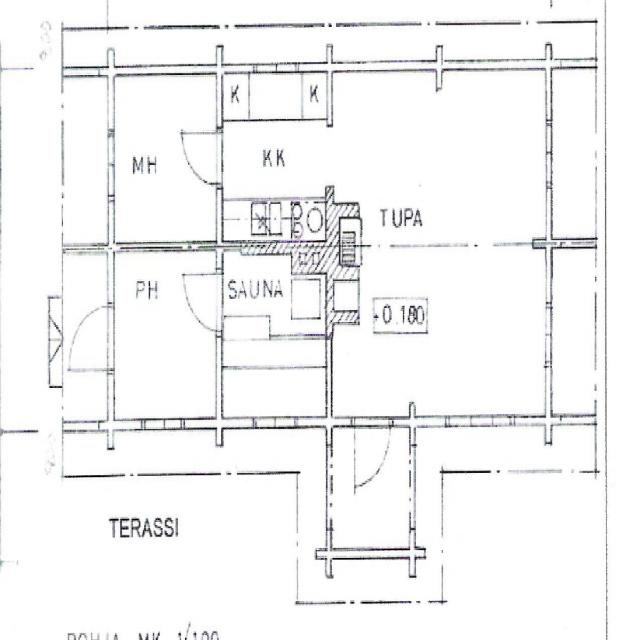door: (69, 307, 114, 370), (355, 415, 391, 483), (182, 274, 222, 331), (185, 132, 222, 184)
